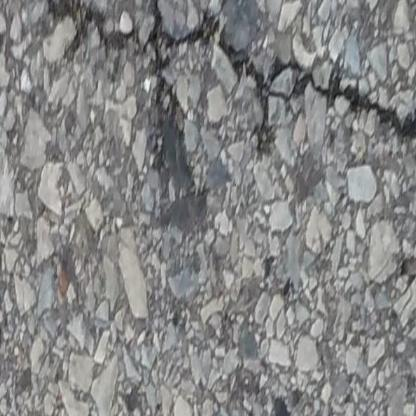Cracks: (50, 0, 416, 232)
